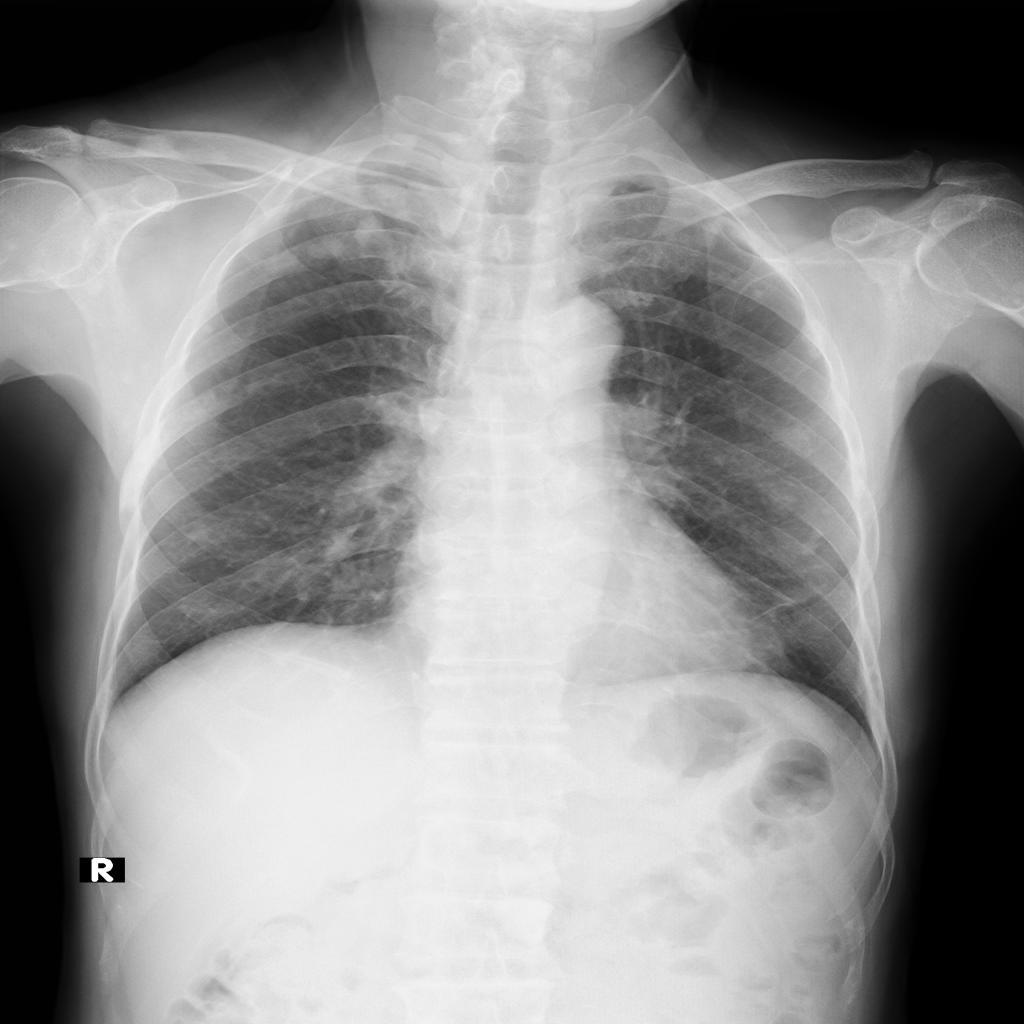Nodule: (259, 171, 400, 269), (307, 239, 345, 260), (744, 288, 767, 316)
